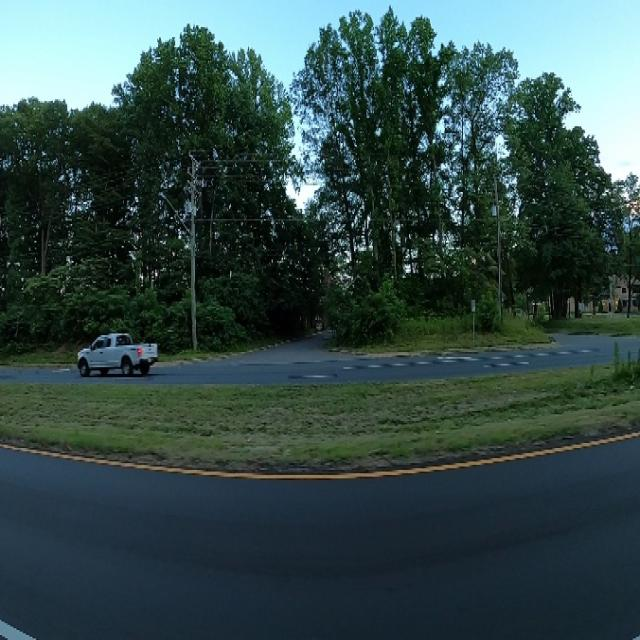cars: (74, 322, 159, 381)
